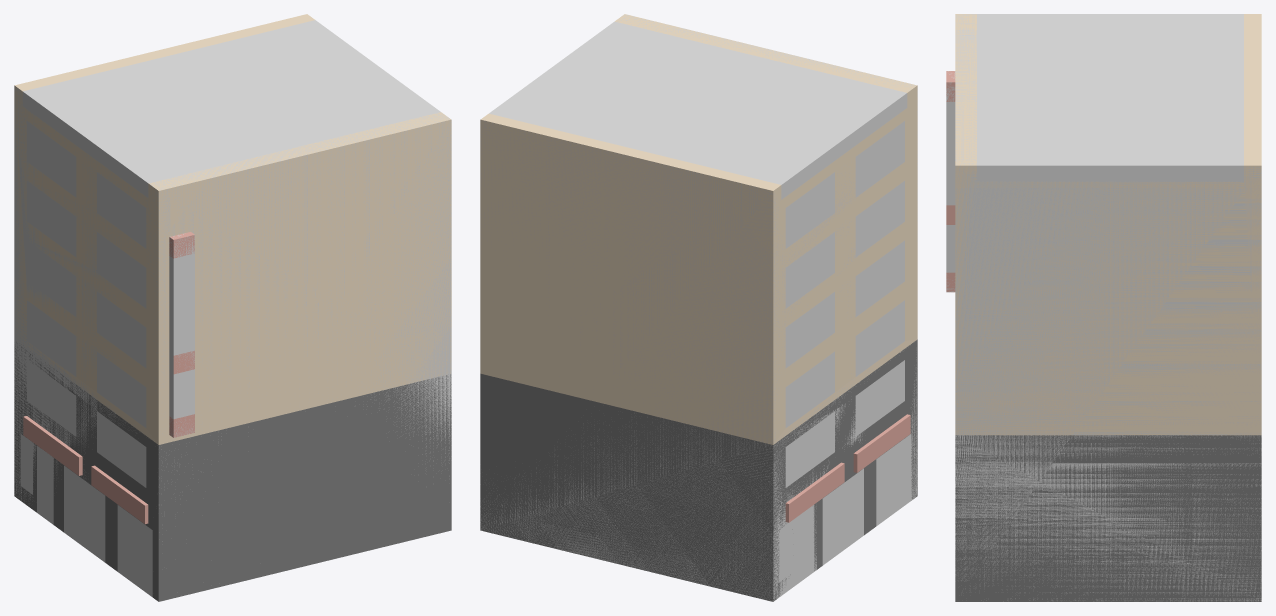
File: Building_B2_Home06_1_01.FBX
3 renders of one model, left to right at view 1: azimuth 30°, elevation 25°; view 2: azimuth 150°, elevation 25°; view 3: azimuth 270°, elevation 25°, orthographic. The views are drawn at different scales.
Visible parts, largest first — view 1: Building_B2_Home06_Live_1_01, Building_B2_Home06_Damage_1_01; view 2: Building_B2_Home06_Live_1_01, Building_B2_Home06_Damage_1_01; view 3: Building_B2_Home06_Damage_1_01, Building_B2_Home06_Live_1_01.
Boxes of the visible parts, x1,y1,x2,y2 form: Building_B2_Home06_Live_1_01: (14,14,451,601); Building_B2_Home06_Damage_1_01: (14,20,451,596); Building_B2_Home06_Live_1_01: (480,14,917,601); Building_B2_Home06_Damage_1_01: (480,14,917,601); Building_B2_Home06_Damage_1_01: (946,14,1261,601); Building_B2_Home06_Live_1_01: (946,14,1261,601).
Size of the model in its own units: 9.96 by 13.2 by 8.64.
